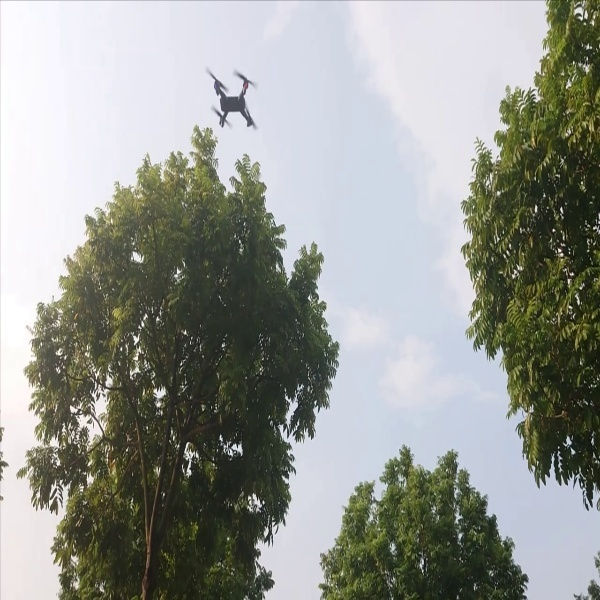drone: (195, 54, 263, 138)
